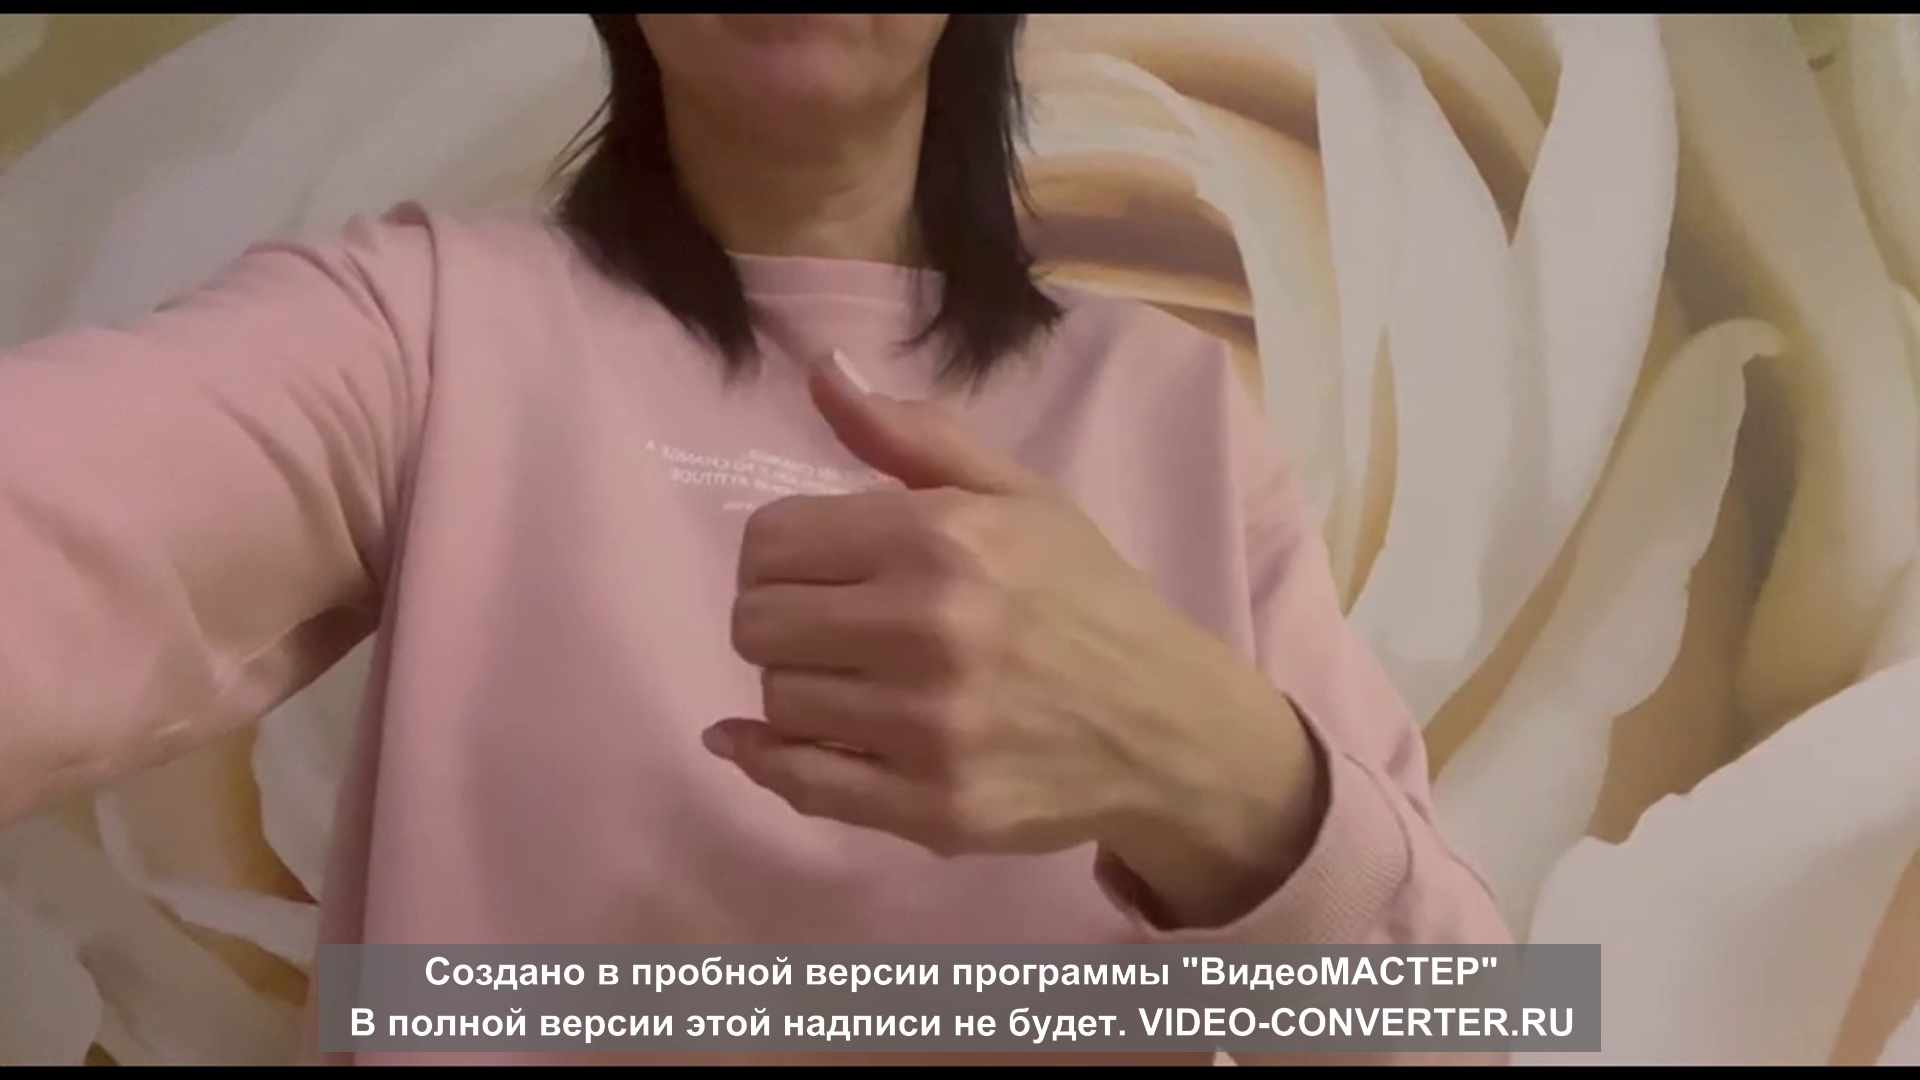Кисть: (702, 343, 1174, 864)
